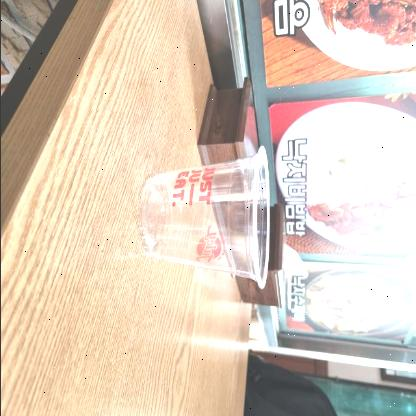Others: (134, 142, 272, 288)
